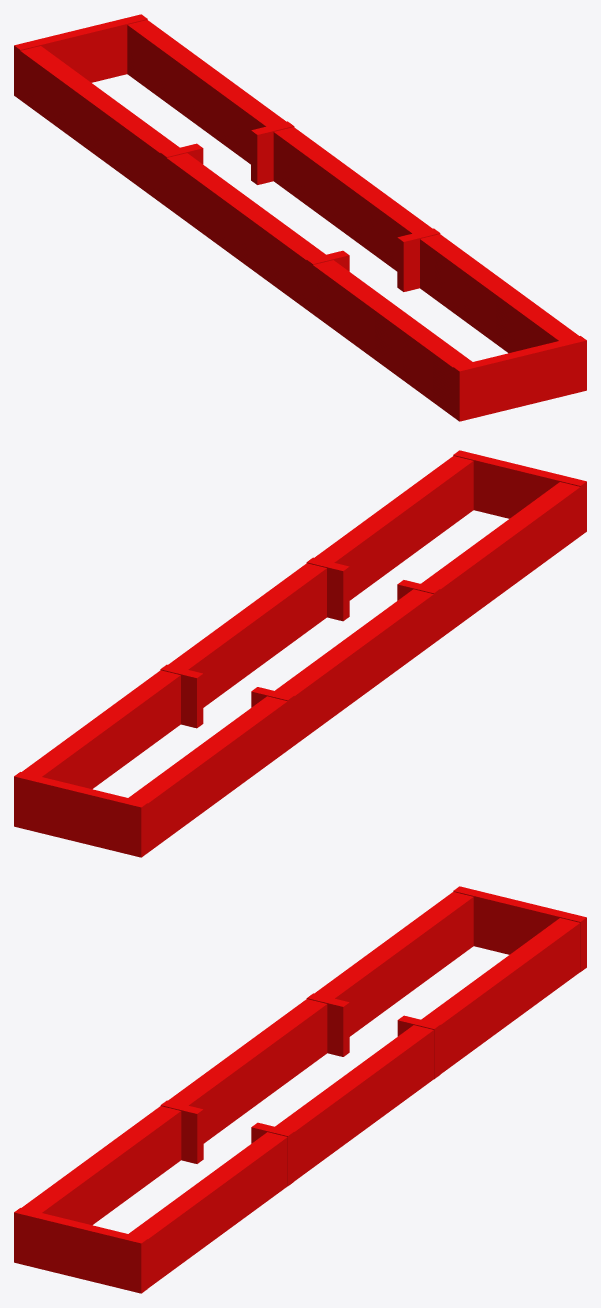
3 views of the same model, one above another, from view 1: azimuth 30°, elevation 25°; view 2: azimuth 150°, elevation 25°; view 3: azimuth 330°, elevation 25° (orthographic).
Parts seen in each view (by area): view 1: Collision Block.012, Collision Block.001, Collision Block.024, Collision Block.002, Collision Block.003, Collision Block.006, Collision Block.007, Collision Block.005; view 2: Collision Block.012, Collision Block.001, Collision Block.002, Collision Block.024, Collision Block.003, Collision Block.006, Collision Block.007, Collision Block.005; view 3: Collision Block.001, Collision Block.012, Collision Block.024, Collision Block.002, Collision Block.005, Collision Block.007, Collision Block.003, Collision Block.006.
Part boxes in pixels (x1,y1,x2,y2): Collision Block.012: [17, 46, 472, 416]; Collision Block.001: [127, 20, 578, 353]; Collision Block.024: [453, 336, 586, 421]; Collision Block.002: [14, 14, 147, 99]; Collision Block.003: [397, 228, 440, 291]; Collision Block.006: [251, 121, 294, 184]; Collision Block.007: [160, 143, 203, 206]; Collision Block.005: [306, 250, 349, 313]; Collision Block.012: [128, 482, 580, 854]; Collision Block.001: [22, 456, 473, 789]; Collision Block.002: [14, 772, 147, 857]; Collision Block.024: [453, 450, 586, 535]; Collision Block.003: [306, 557, 349, 621]; Collision Block.006: [160, 664, 203, 728]; Collision Block.007: [251, 687, 294, 750]; Collision Block.005: [397, 580, 440, 641]; Collision Block.001: [129, 918, 580, 1288]; Collision Block.012: [21, 892, 473, 1225]; Collision Block.024: [14, 1208, 147, 1293]; Collision Block.002: [453, 886, 586, 971]; Collision Block.005: [160, 1100, 203, 1163]; Collision Block.007: [306, 993, 349, 1056]; Collision Block.003: [251, 1122, 294, 1185]; Collision Block.006: [397, 1015, 440, 1079].
Bounding box in the file's own units: 5.32 × 2 × 32.25.
